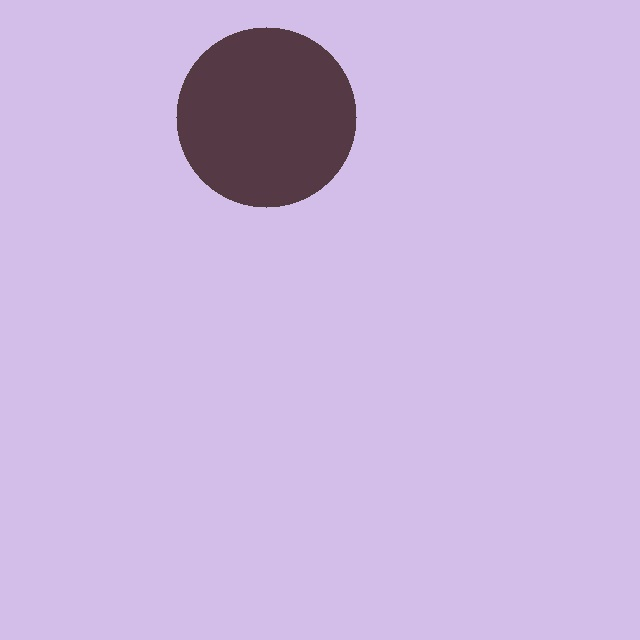circle: (175, 26, 357, 207)
